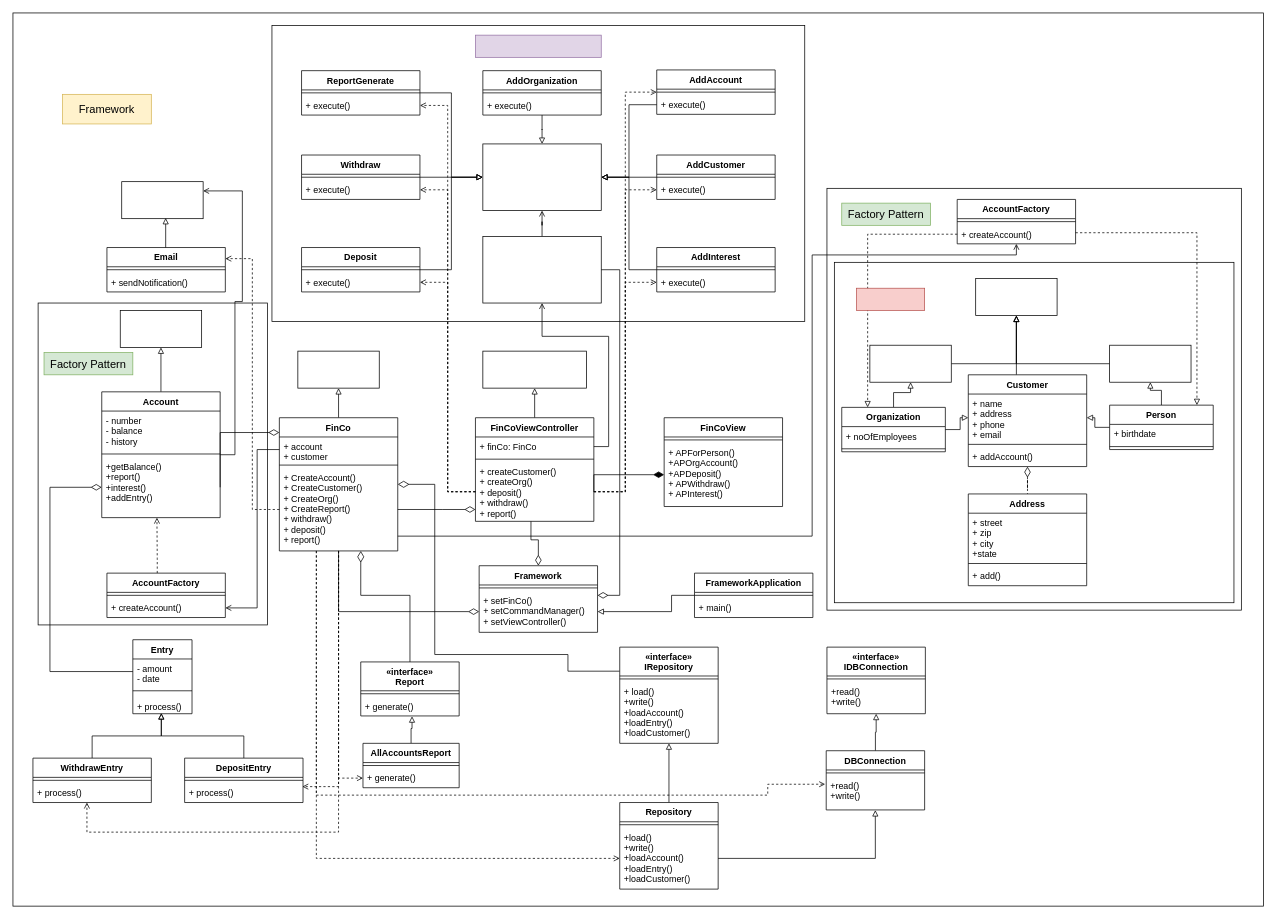
The diagram is 1277 pixels wide and 919 high, and some of its shapes have lost their labels. The centre of each missing label's shape, as x and y in pixels:
Command Pattern: pixel 538 45
CommandManager + invoke(): pixel 541 269
Party Pattern: pixel 890 298
«interface» IAccount: pixel 161 328
«interface» ICommand: pixel 541 177
«interface» ICustomer: pixel 1016 297
«interface» IFinco: pixel 338 369
«interface» IFinCoViewController: pixel 534 369
«interface» INotification: pixel 162 200
«interface» IOrganization: pixel 910 363
«interface» IPerson: pixel 1150 363
